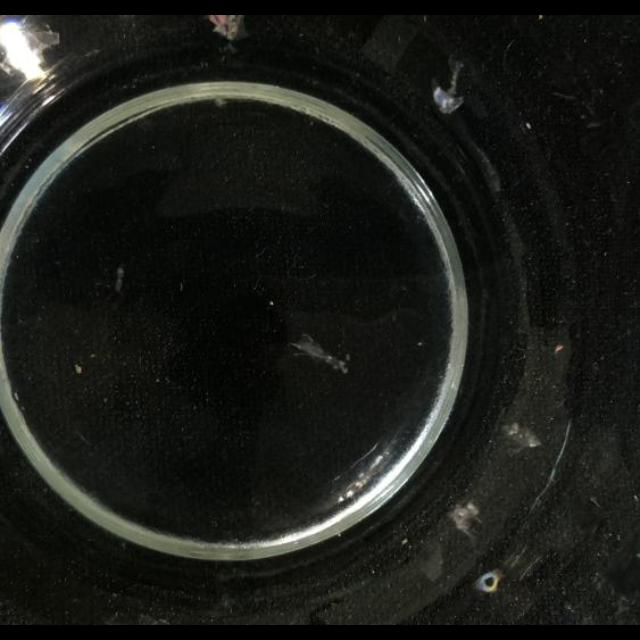Fibre: (287, 332, 351, 374), (432, 59, 466, 114), (502, 422, 542, 453), (449, 500, 483, 536), (114, 268, 125, 292), (213, 96, 227, 108)
microbeads: (178, 280, 184, 292)
